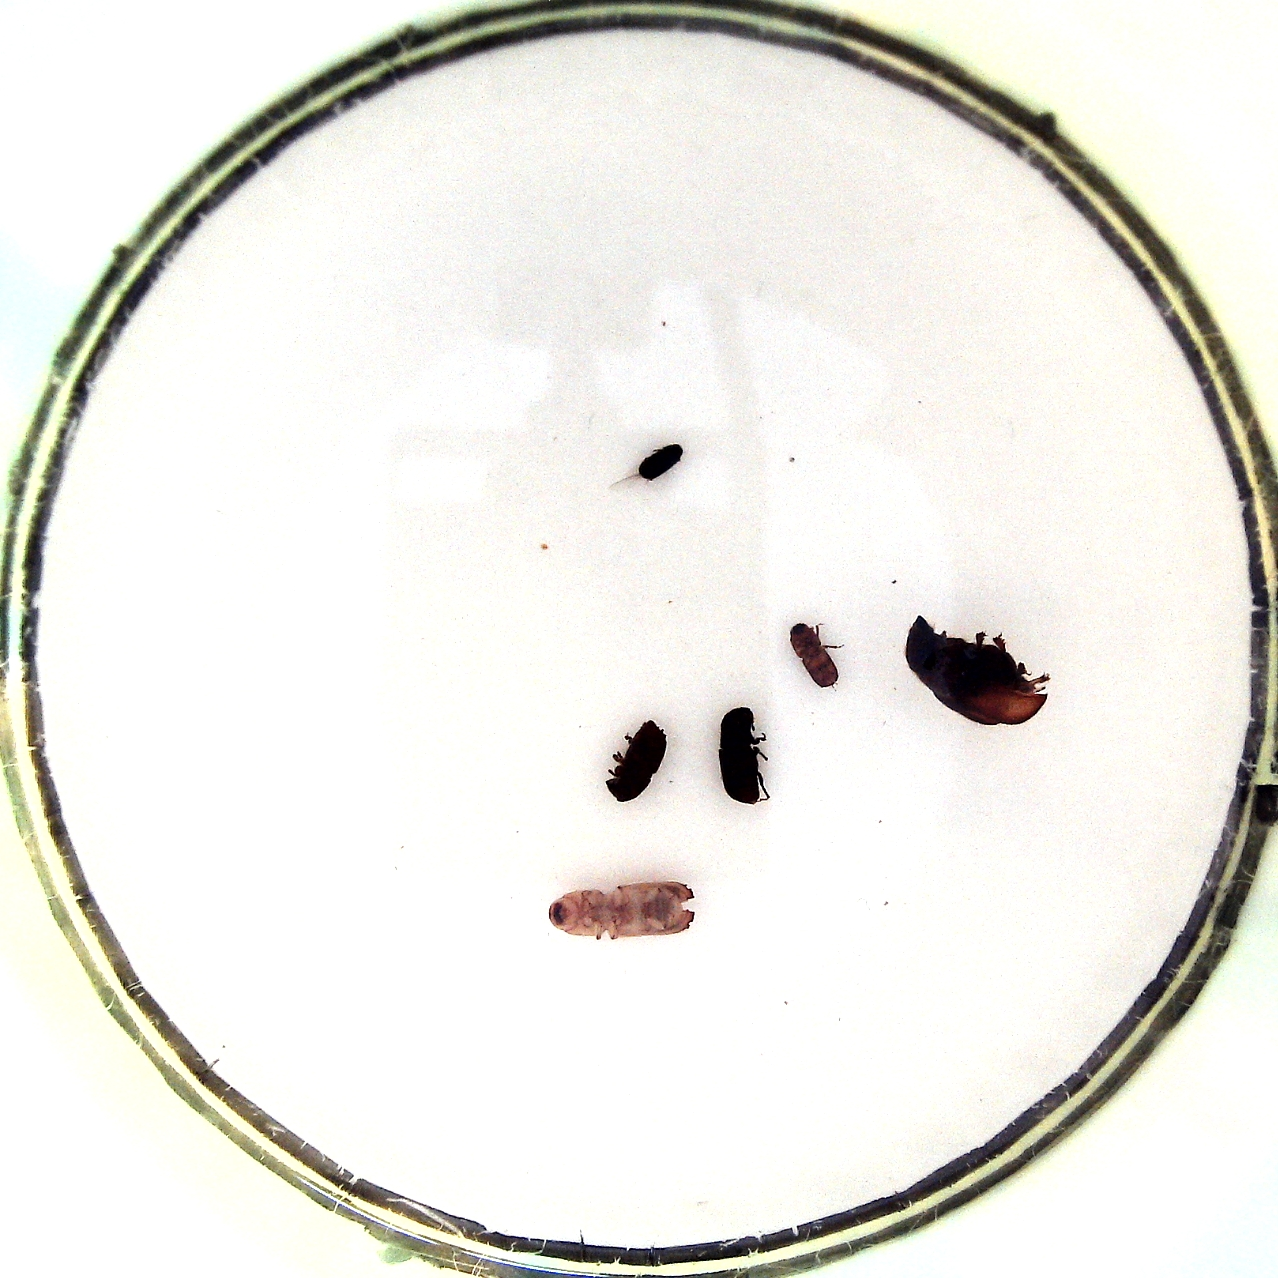Boerner: (547, 877, 696, 946)
Leconte: (901, 612, 1054, 730)
Linnaeus: (605, 717, 671, 803)
acuminatus: (789, 621, 844, 690)
armandi: (716, 708, 775, 806)
coleoptera: (632, 437, 683, 481)
